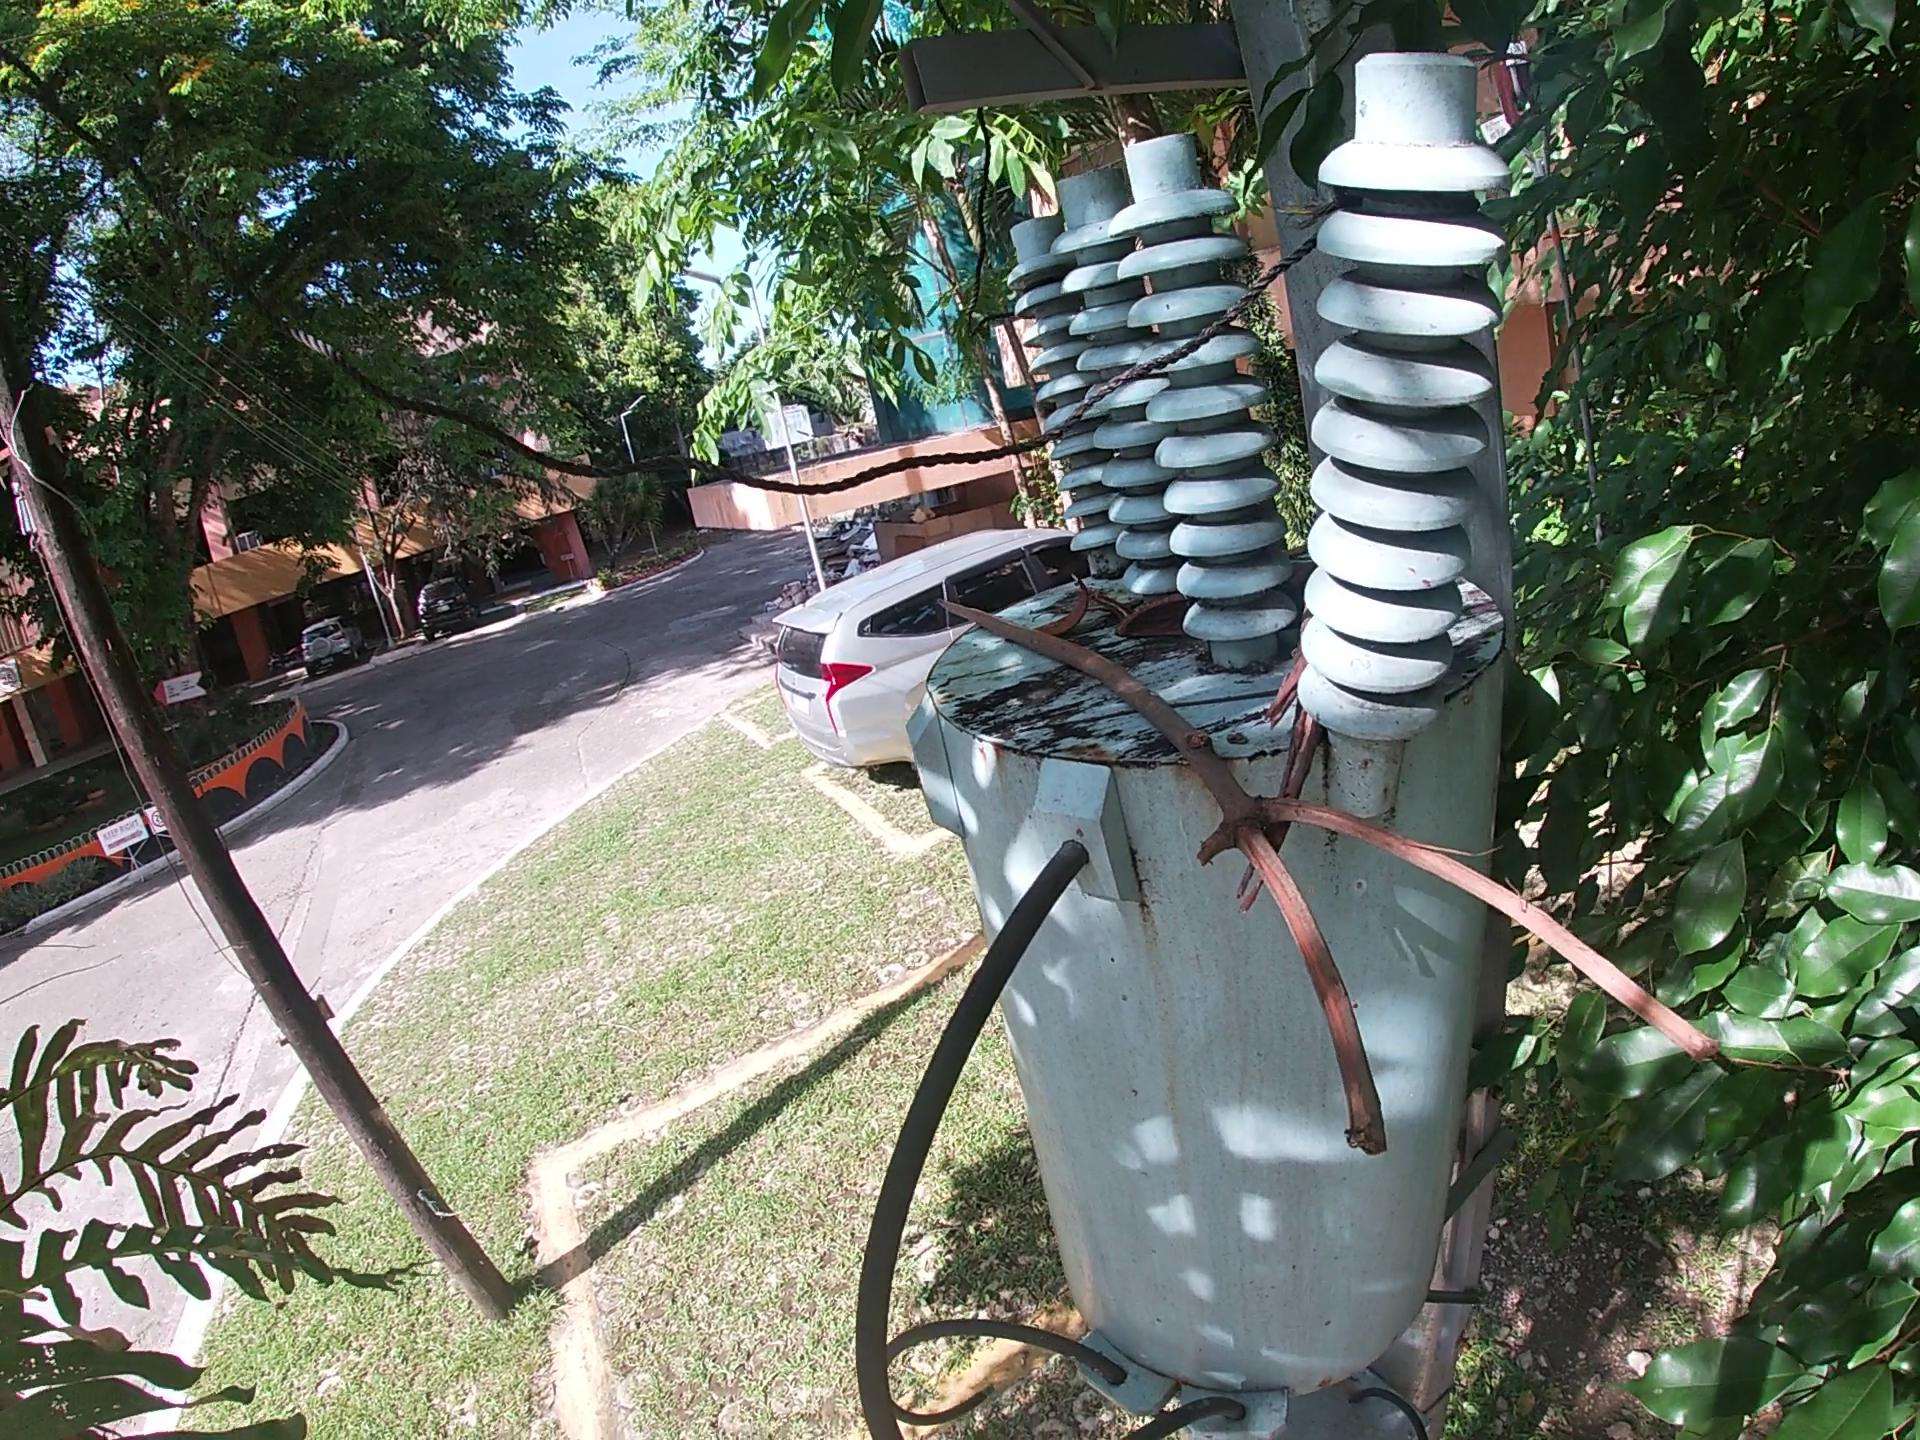mahogany fruit: (1117, 596, 1194, 644), (1042, 575, 1093, 629)
tree branch: (930, 576, 1748, 1266), (1219, 647, 1317, 932), (1030, 678, 1290, 743), (1093, 585, 1123, 617), (1287, 542, 1306, 563)
